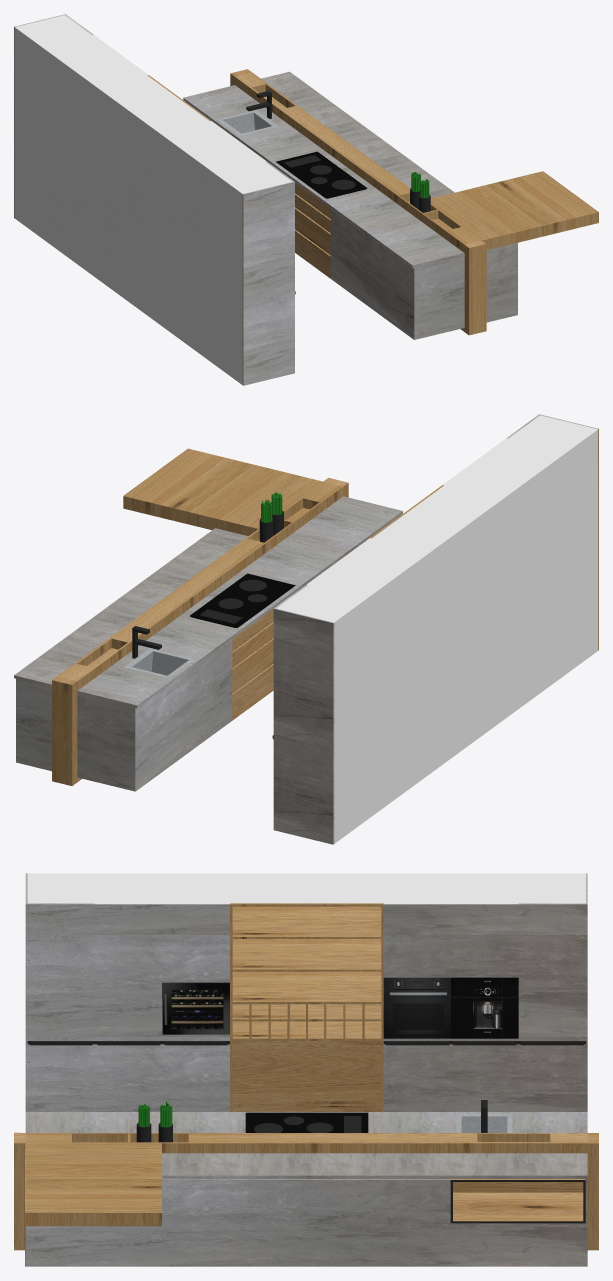
File: kitchen.dae
3 views of the same model, one above another, from view 1: azimuth 30°, elevation 25°; view 2: azimuth 150°, elevation 25°; view 3: azimuth 270°, elevation 25° (orthographic). The views are drawn at different scales.
Visible parts, largest first — view 1: SketchUp (×10); view 2: SketchUp (×11); view 3: SketchUp (×23).
Boxes of the visible parts, x1=… form: SketchUp (×10): x1=14, y1=15, x2=598, y2=385; SketchUp (×11): x1=14, y1=415, x2=597, y2=844; SketchUp (×23): x1=14, y1=873, x2=598, y2=1266.
Bounding box in the file's own units: 176 × 205 × 90.55.
Materials: 11 (7 with a texture image).
